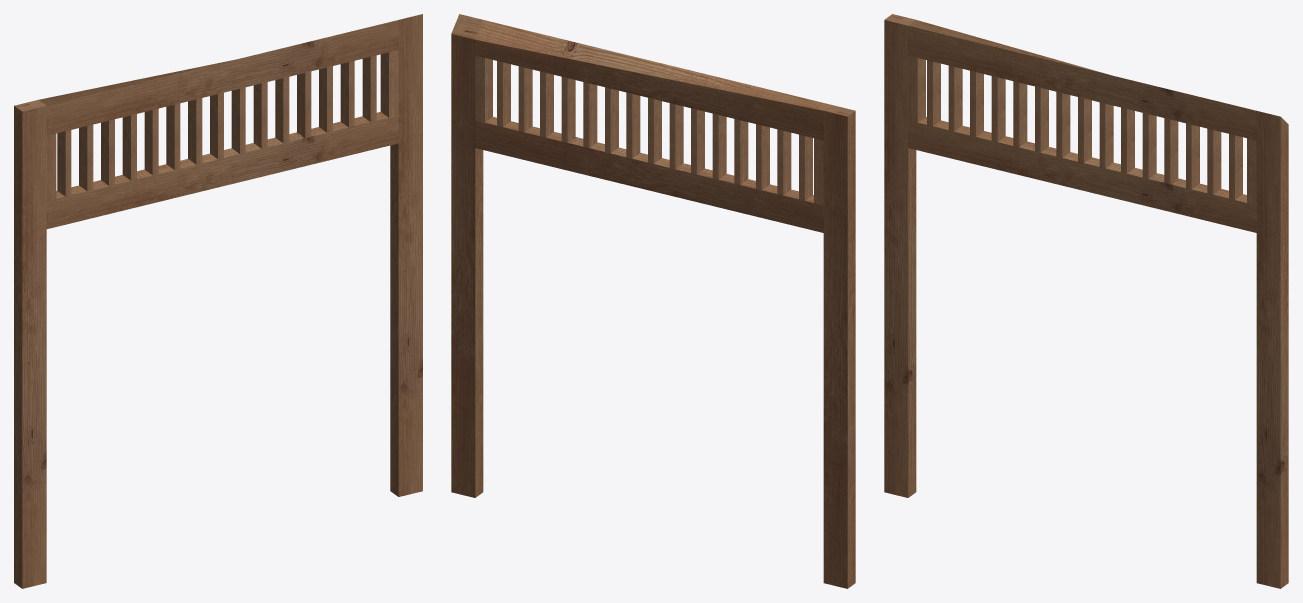
File: SM_Yeonkyung_Jangyangmoon_Door_A_001.fbx
The picture shows the model from 3 angles, left to right: view 1: azimuth 30°, elevation 25°; view 2: azimuth 150°, elevation 25°; view 3: azimuth 330°, elevation 25°; orthographic projection.
Parts seen in each view (by area): view 1: SM_Yeonkyung_Jangyangmoon_Door_A_001; view 2: SM_Yeonkyung_Jangyangmoon_Door_A_001; view 3: SM_Yeonkyung_Jangyangmoon_Door_A_001.
Boxes of the visible parts, bbox=[...] form: SM_Yeonkyung_Jangyangmoon_Door_A_001: bbox=[14, 14, 422, 588]; SM_Yeonkyung_Jangyangmoon_Door_A_001: bbox=[451, 14, 855, 588]; SM_Yeonkyung_Jangyangmoon_Door_A_001: bbox=[884, 14, 1288, 588].
Size of the model in its own units: 266 by 303 by 9.39.
